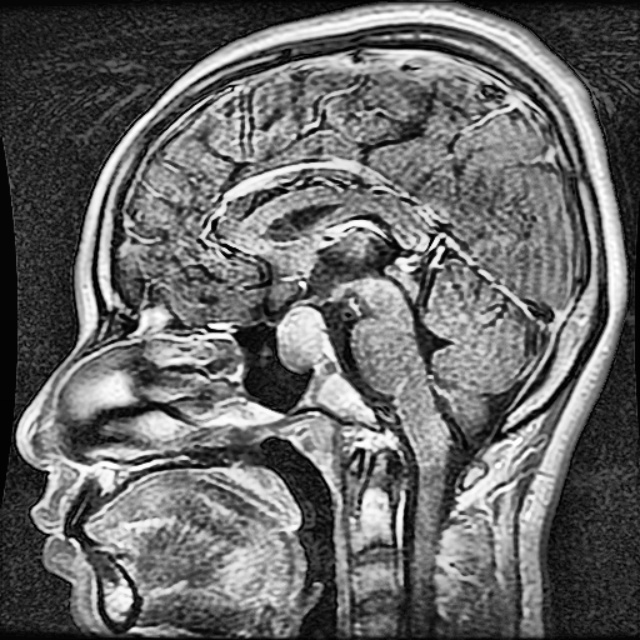Pituitary: (278, 307, 327, 370)
